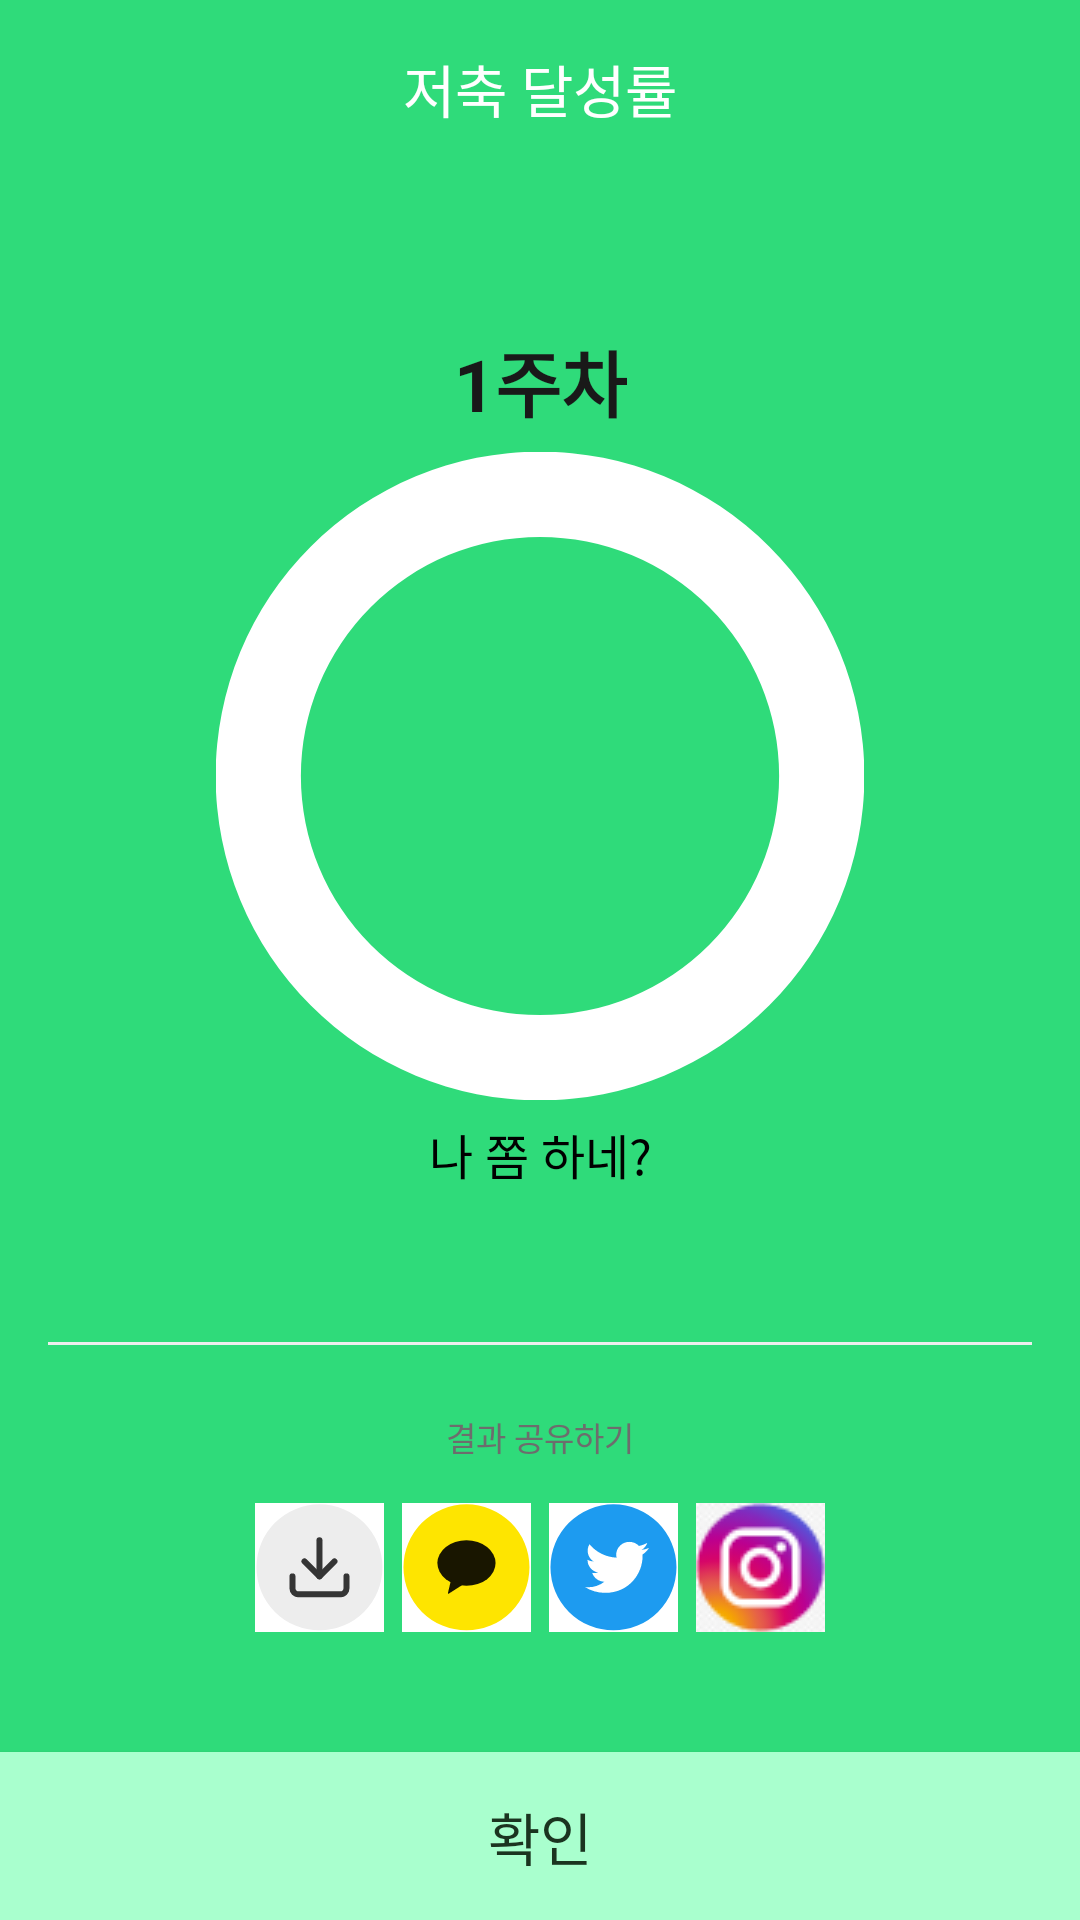

Named icons in this screenshot (1080*1920) and their centers, [x,y]:
percentpg imgsave: [319,1567]
